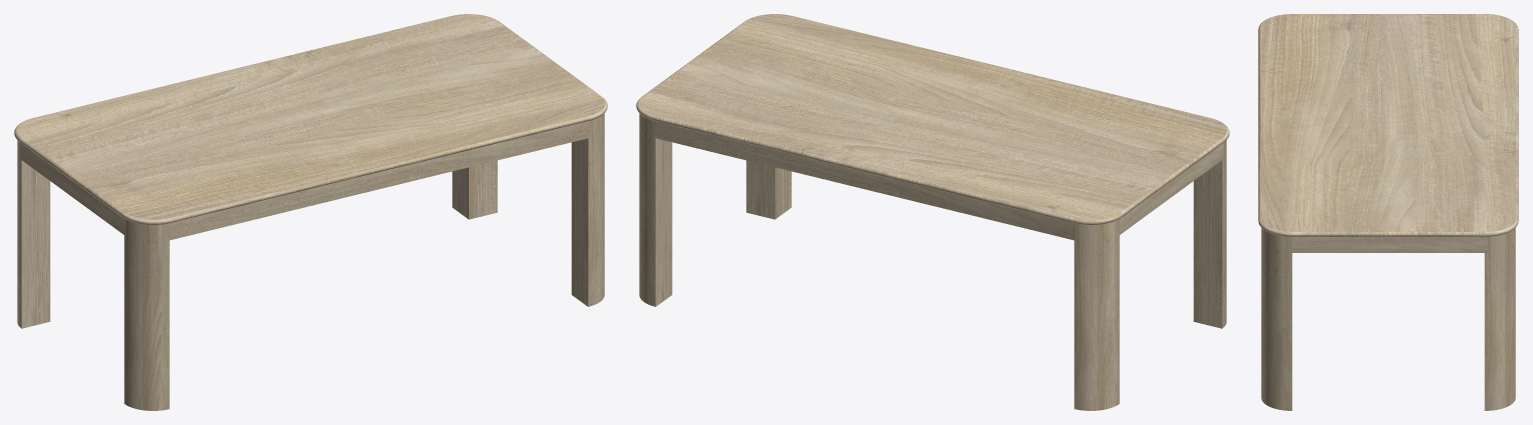
Rendered from dana_sto_model.glb.
The picture shows the model from 3 angles, left to right: view 1: azimuth 30°, elevation 25°; view 2: azimuth 150°, elevation 25°; view 3: azimuth 270°, elevation 25°; orthographic projection. The views are drawn at different scales.
Visible parts, largest first — view 1: Fillet2.001, 1_14.001, 1_33.001, 1_18.001, 1_7.001, 1_2.001, 1_37.001, 1_8_2, 1_5.001, 1_9.001, Object_11, Object_12 (+4 smaller); view 2: Fillet2.001, 1_46.001, 1_20.001, 1_51.001, 1_7.001, 1_15.001, 1_37.001, 1_21.001, 1_22.001, 1_54.001, Object_14, Object_13 (+6 smaller); view 3: Fillet2.001, 1_23.001, 1_53.001, 1_31.001, 1_34.001, 1_28.001, 1_48.001, 1_55.001, 1_33.001, 1_35.001, 1_54.001, 1_51.001.
Boxes of the visible parts, x1,y1,x2,y2 form: Fillet2.001: [14, 14, 607, 224]; 1_14.001: [169, 120, 590, 240]; 1_33.001: [584, 117, 600, 306]; 1_18.001: [18, 141, 35, 328]; 1_7.001: [124, 220, 136, 408]; 1_2.001: [142, 224, 152, 410]; 1_37.001: [21, 144, 125, 235]; 1_8_2: [153, 224, 161, 410]; 1_5.001: [162, 223, 169, 410]; 1_9.001: [136, 223, 142, 409]; Object_11: [36, 171, 43, 325]; Object_12: [43, 176, 50, 323]; Fillet2.001: [636, 14, 1229, 224]; 1_46.001: [655, 121, 1076, 240]; 1_20.001: [1074, 224, 1090, 410]; 1_51.001: [649, 119, 663, 306]; 1_7.001: [1215, 140, 1226, 328]; 1_15.001: [1097, 223, 1107, 410]; 1_37.001: [1119, 143, 1223, 234]; 1_21.001: [1107, 221, 1114, 408]; 1_22.001: [1091, 225, 1097, 410]; 1_54.001: [643, 117, 649, 304]; Object_14: [1208, 165, 1215, 326]; Object_13: [1200, 171, 1207, 325]; Fillet2.001: [1258, 14, 1518, 236]; 1_23.001: [1292, 237, 1487, 252]; 1_53.001: [1484, 235, 1500, 410]; 1_31.001: [1284, 236, 1292, 410]; 1_34.001: [1276, 235, 1284, 410]; 1_28.001: [1269, 233, 1276, 408]; 1_48.001: [1505, 231, 1511, 407]; 1_55.001: [1500, 234, 1504, 408]; 1_33.001: [1261, 228, 1265, 403]; 1_35.001: [1265, 231, 1268, 406]; 1_54.001: [1511, 229, 1514, 403]; 1_51.001: [1514, 228, 1515, 400].
Bounding box in the file's own units: 2 × 0.76 × 1.
1 material, 1 textured.
